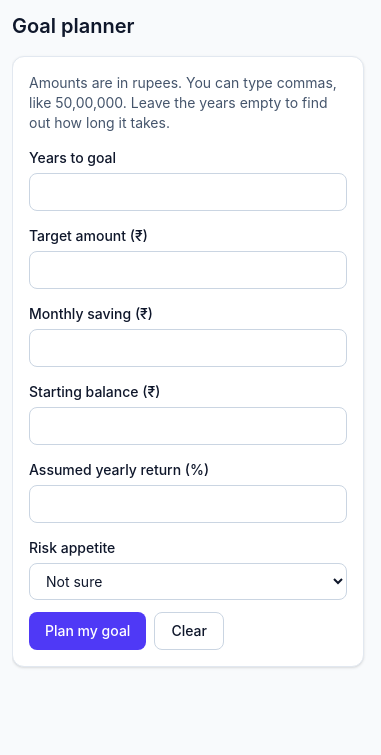
it: GoalsView: the form › 'Clear' empties the form and the problems
The image size is (381, 755).
Type "99" into the field labelled "Years to goal".
click(188, 192); type("99")  # box [29,173,347,211]
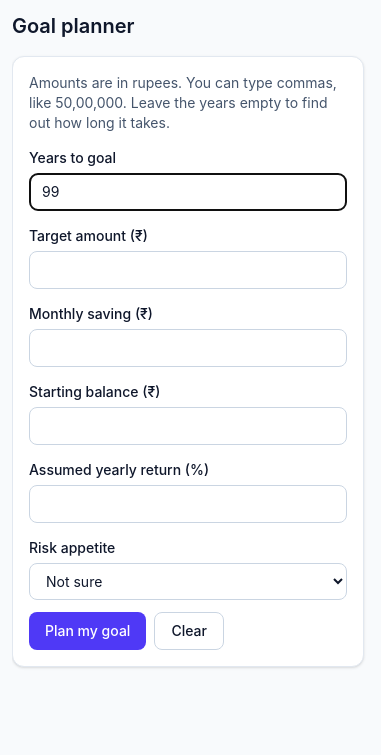
Click the button "Plan my goal".
click(88, 631)  # box [29,612,146,650]
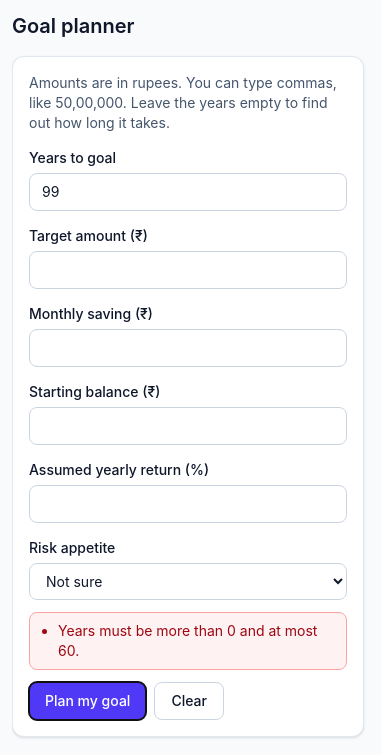
Click the button "Clear".
click(189, 701)  # box [154,682,224,720]
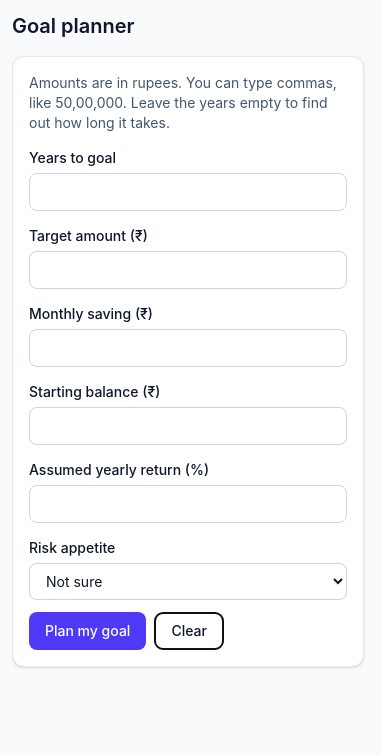
Check: the message "Years must be more than 0 and at most 60." is gone
